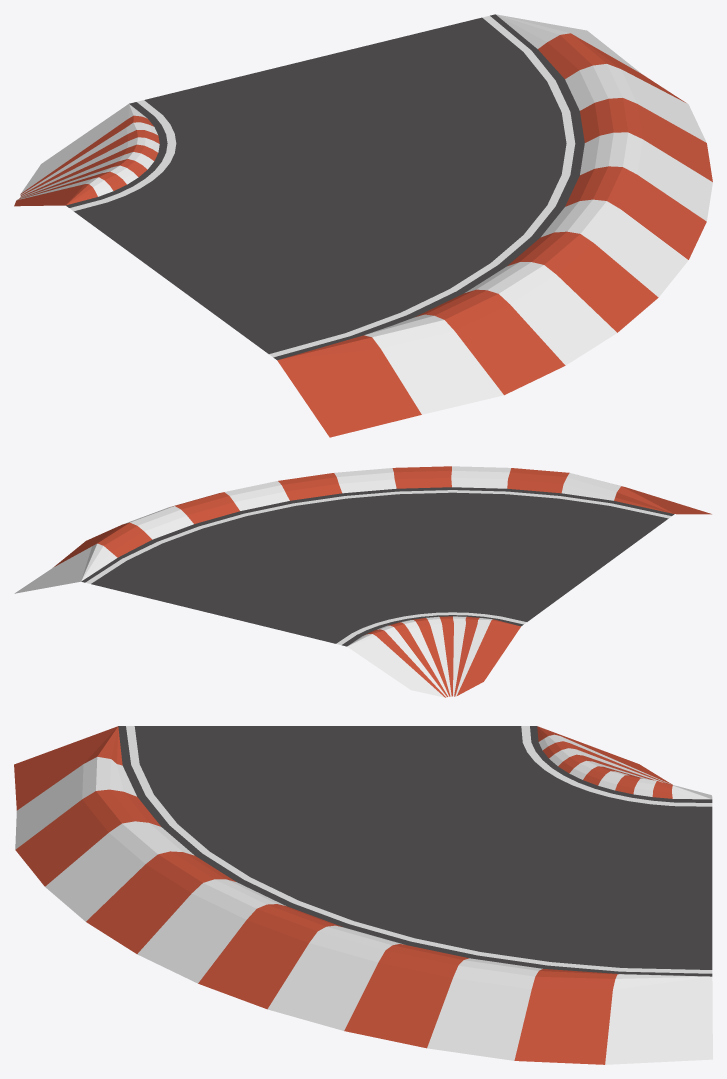
The model's file is RoadTurnFixed.fbx.
The picture shows the model from 3 angles, top to bottom: view 1: azimuth 30°, elevation 25°; view 2: azimuth 150°, elevation 25°; view 3: azimuth 270°, elevation 25°; orthographic projection. The views are drawn at different scales.
Parts seen in each view (by area): view 1: Plane; view 2: Plane; view 3: Plane.
Part boxes in pixels (left/top/right/bottom): Plane: left=14, top=14, right=712, bottom=437; Plane: left=14, top=466, right=711, bottom=697; Plane: left=14, top=726, right=712, bottom=1064.
Size of the model in its own units: 1156 by 111 by 1155.
